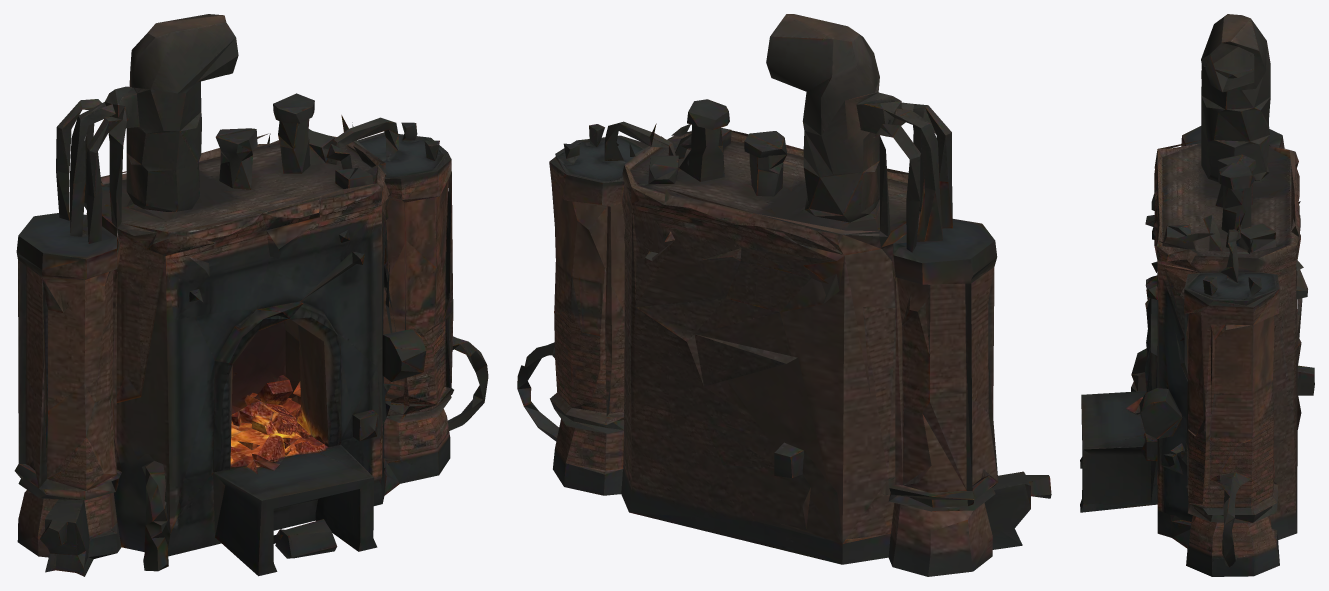
Rendered from furnace_block.glb.
The picture shows the model from 3 angles, left to right: view 1: azimuth 30°, elevation 25°; view 2: azimuth 150°, elevation 25°; view 3: azimuth 270°, elevation 25°; orthographic projection. The views are drawn at different scales.
Size of the model in its own units: 6.22 by 6 by 2.9.
Materials: 1 (1 with a texture image).
